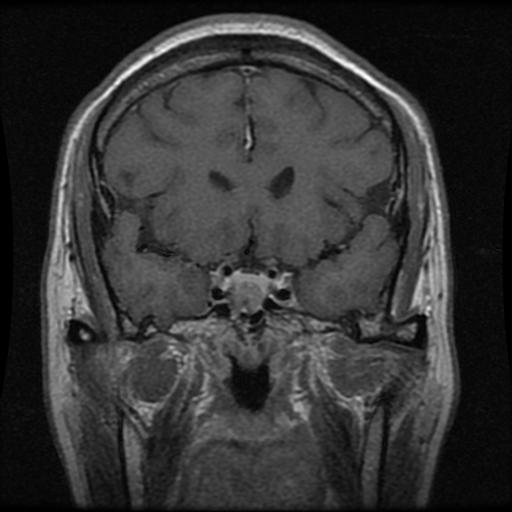Pituirity_tumour: (223, 269, 268, 313)
